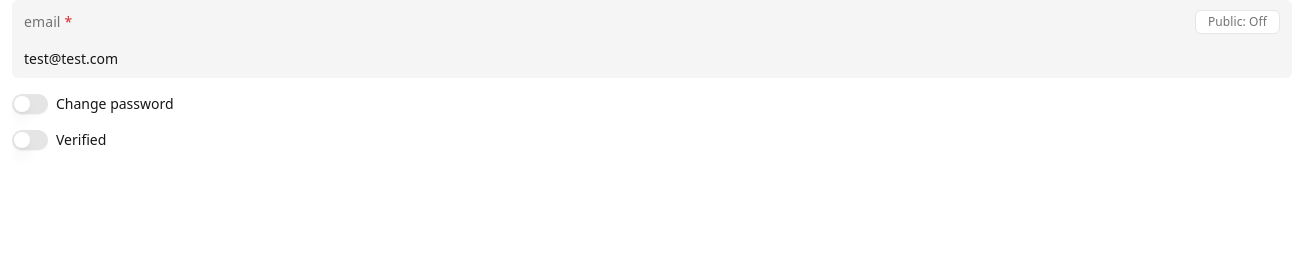
Test case: AuthFields › password fields › should show password fields when change password toggle is enabled
# Enable change password
Click the switch named "Change password" next to "Change password" at (30, 104), box [12,94,48,114]
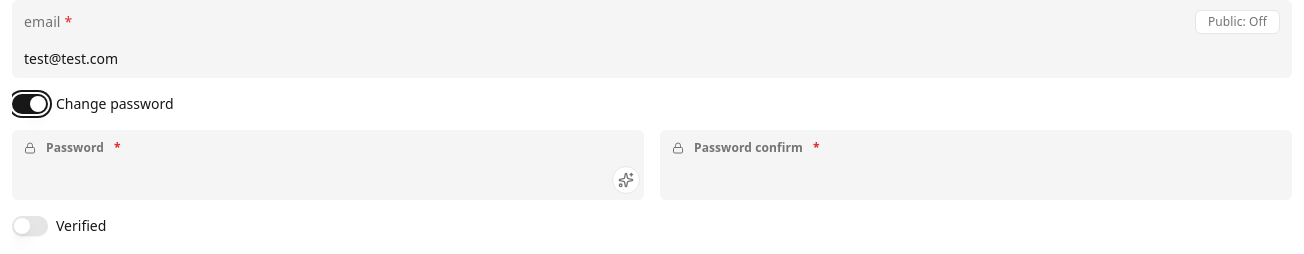
Now the password field labelled "Password *" is shown, box [12,160,644,200]
